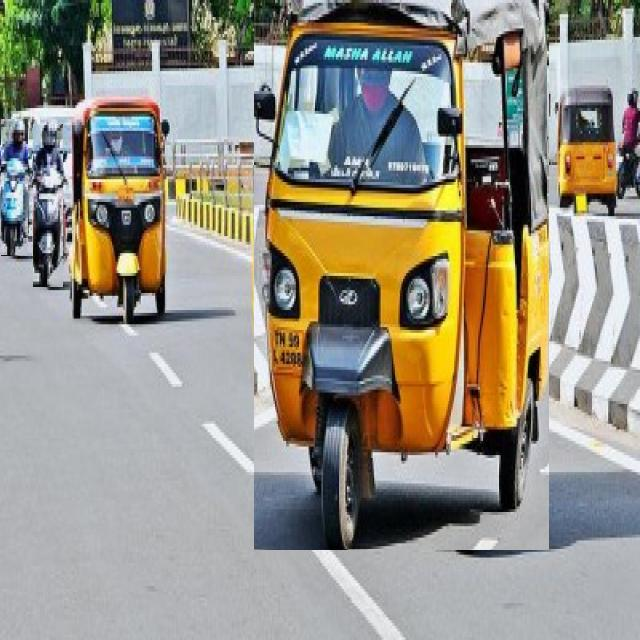autorickshaw: (254, 0, 549, 550), (71, 98, 168, 322), (558, 92, 616, 214)
motorcycle: (33, 124, 62, 287), (0, 120, 28, 256)
